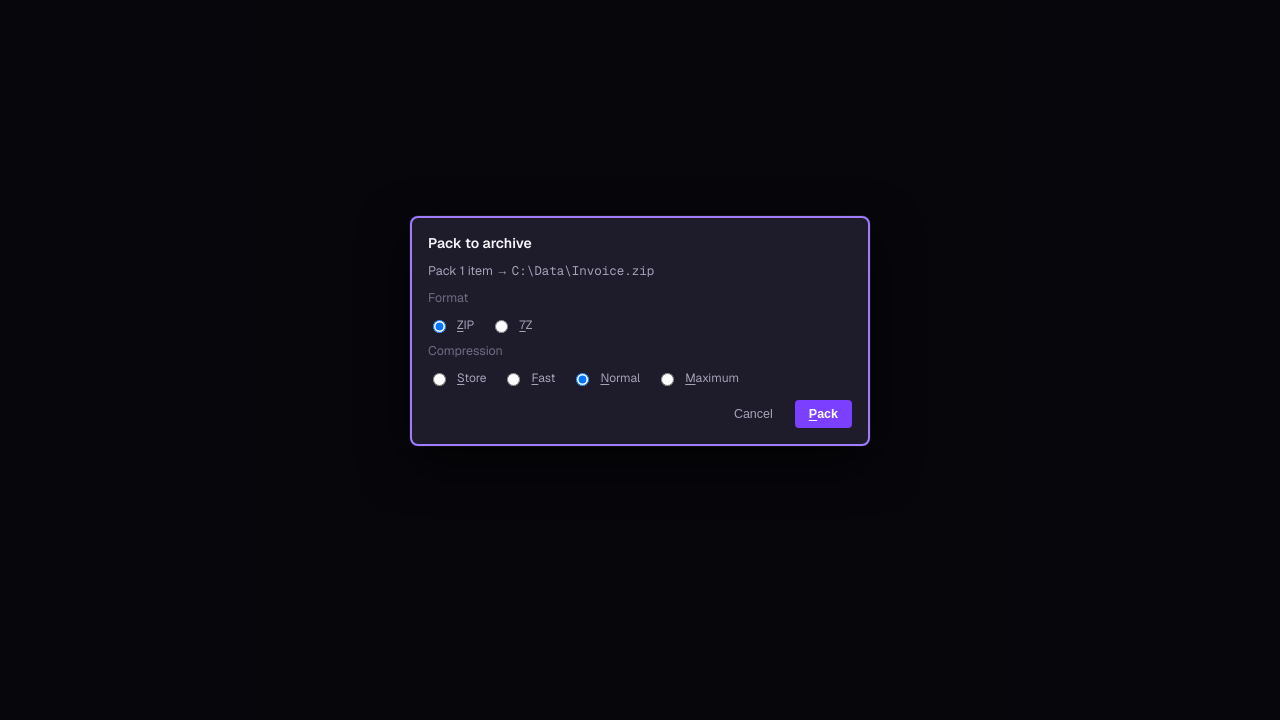
Test case: Pack dialog submit › failure keeps the dialog open, shows the FsError message and does not refresh
The width and height of the screenshot is (1280, 720).
Click the button "Pack".
click(823, 414)  # box x1=795 y1=400 x2=852 y2=428
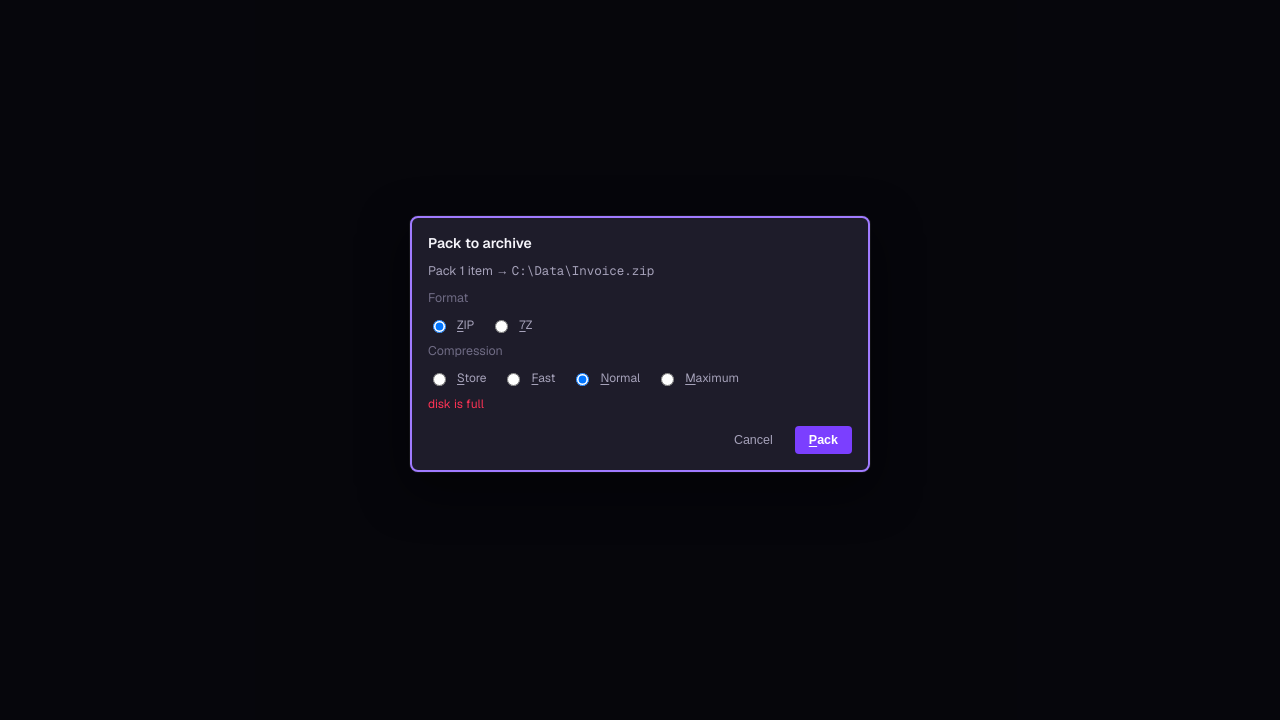
Now the text "disk is full" is shown, box x1=428 y1=396 x2=484 y2=412
